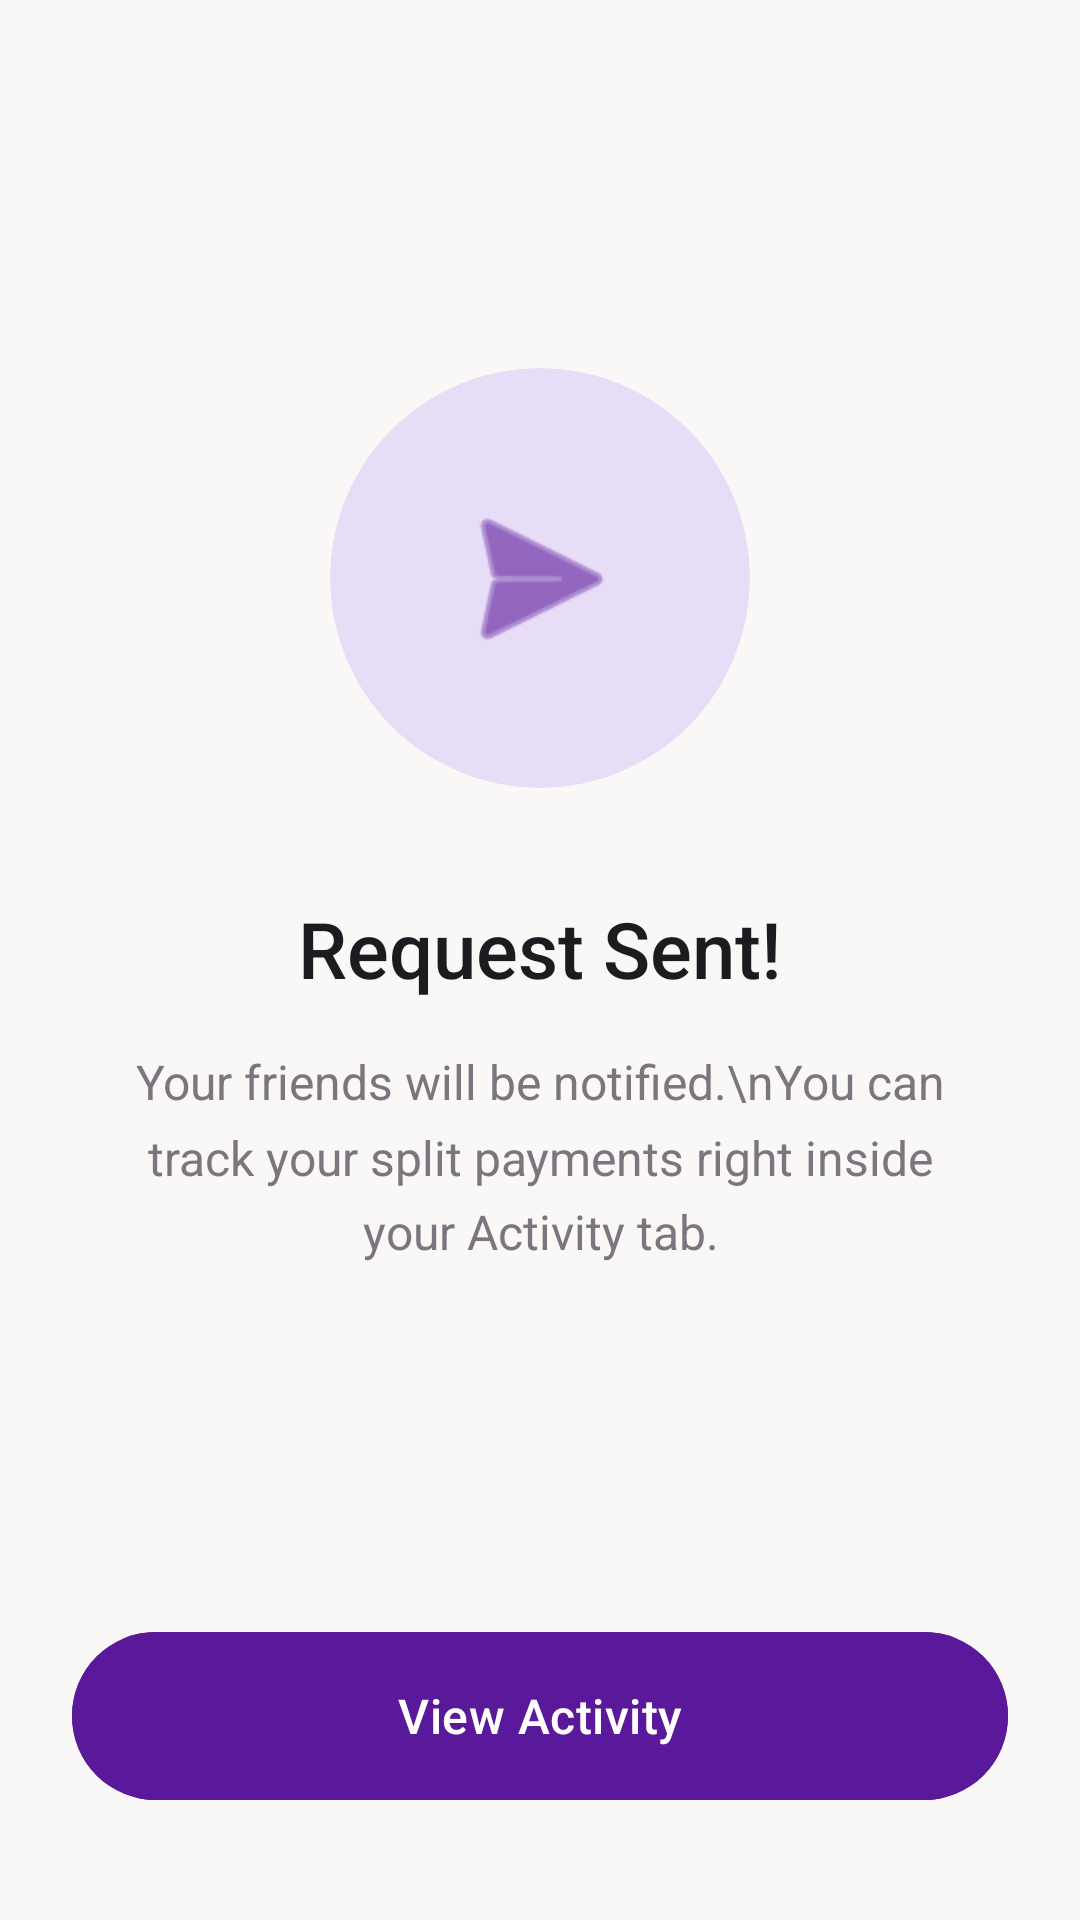

Locate icon controls on the screen. Image size 1080px×1920px, boxes as (x1, y1, x2, y2).
send: (480, 518, 603, 640)
